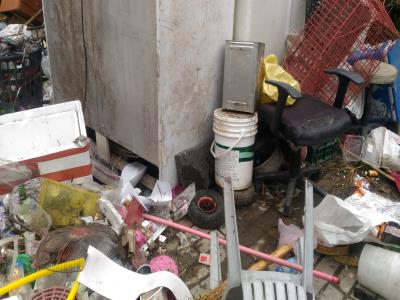bucket: (210, 107, 259, 192), (220, 39, 265, 115)
plastic_bag: (315, 187, 393, 244), (263, 52, 302, 104), (346, 132, 381, 169)
styrofoam: (1, 100, 96, 189)
tire: (186, 187, 225, 230)
